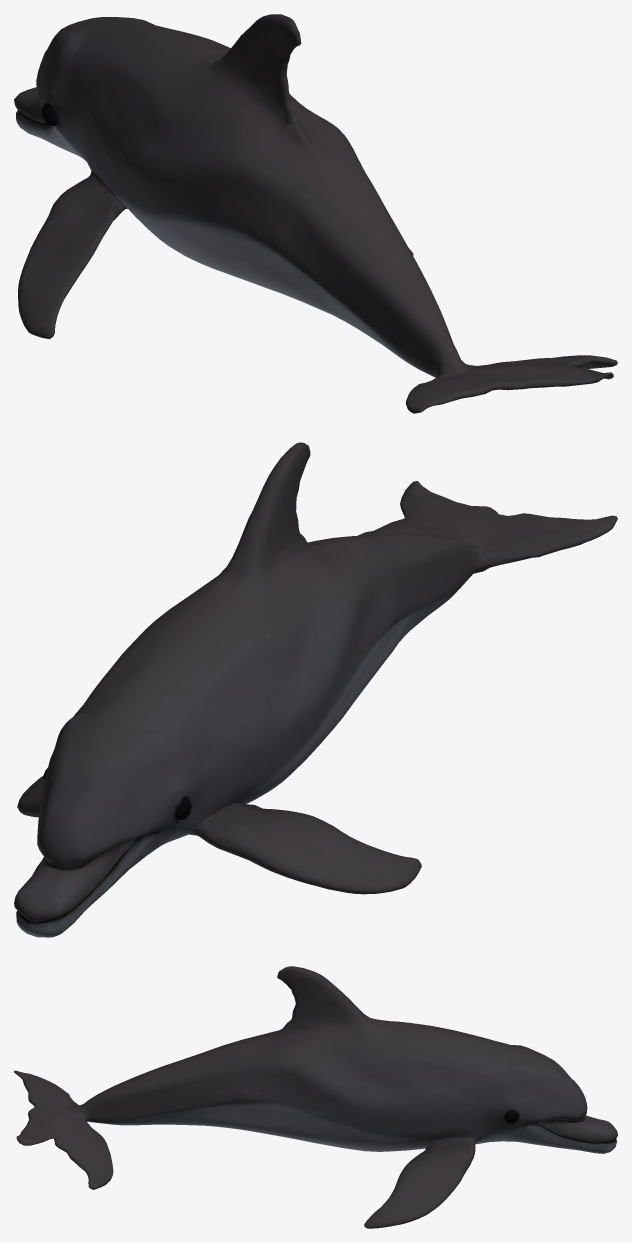
File: dolphin.glb
3 views of the same model, one above another, from view 1: azimuth 30°, elevation 25°; view 2: azimuth 150°, elevation 25°; view 3: azimuth 270°, elevation 25° (orthographic). The views are drawn at different scales.
Parts seen in each view (by area): view 1: tripo_node_46fd0273-11ed-41d8-83ec-6bc7f8e84474; view 2: tripo_node_46fd0273-11ed-41d8-83ec-6bc7f8e84474; view 3: tripo_node_46fd0273-11ed-41d8-83ec-6bc7f8e84474.
Part boxes in pixels (box(x1,y1,x2,y2)): tripo_node_46fd0273-11ed-41d8-83ec-6bc7f8e84474: box(14, 14, 617, 413); tripo_node_46fd0273-11ed-41d8-83ec-6bc7f8e84474: box(14, 442, 617, 937); tripo_node_46fd0273-11ed-41d8-83ec-6bc7f8e84474: box(14, 966, 617, 1228).
Size of the model in its own units: 0.4441 by 0.3773 by 1.
1 material, 1 textured.
